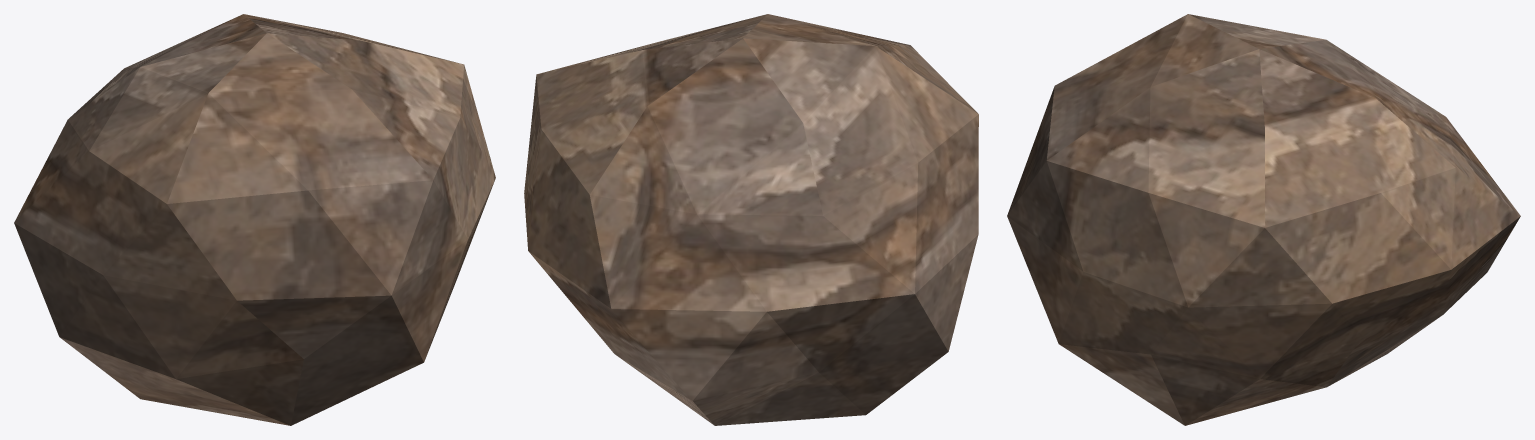
Rendered from rock-s-round.glb.
3 views of the same model, side by side, from view 1: azimuth 30°, elevation 25°; view 2: azimuth 150°, elevation 25°; view 3: azimuth 270°, elevation 25° (orthographic). The views are drawn at different scales.
Parts seen in each view (by area): view 1: rock-s-round; view 2: rock-s-round; view 3: rock-s-round.
Part boxes in pixels (box(x1,y1,x2,y2)): rock-s-round: box(14, 14, 495, 425); rock-s-round: box(524, 14, 978, 425); rock-s-round: box(1007, 14, 1520, 425).
Bounding box in the file's own units: 0.8874 × 0.697 × 0.9662.
Materials: 1 (1 with a texture image).
